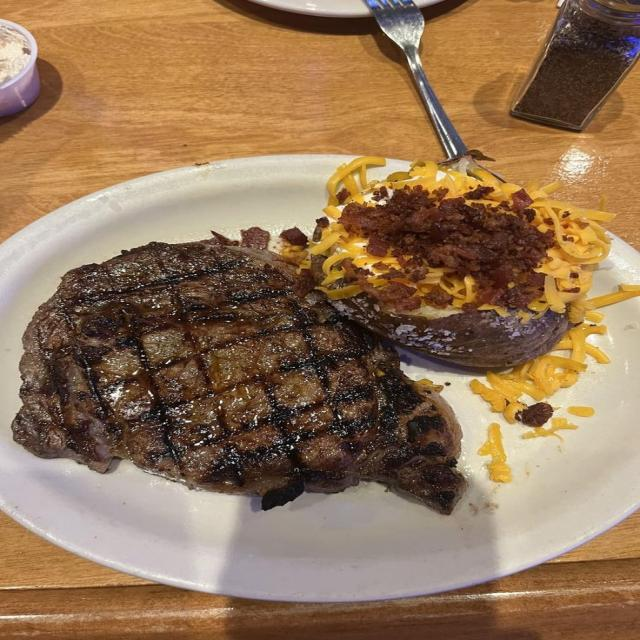beef steak: (12, 239, 465, 513)
